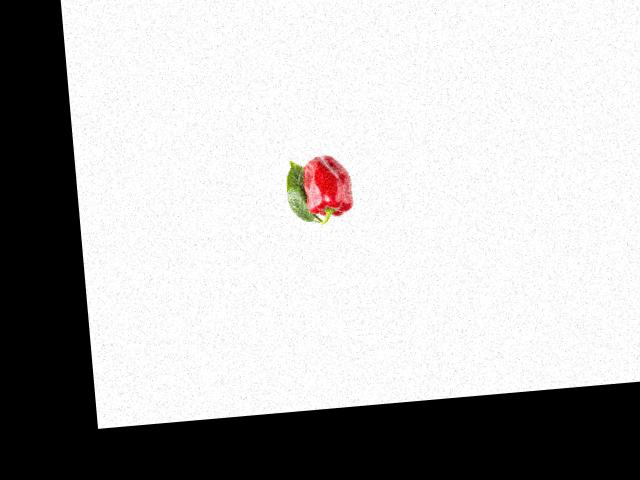bell_pepper: (298, 150, 360, 225)
